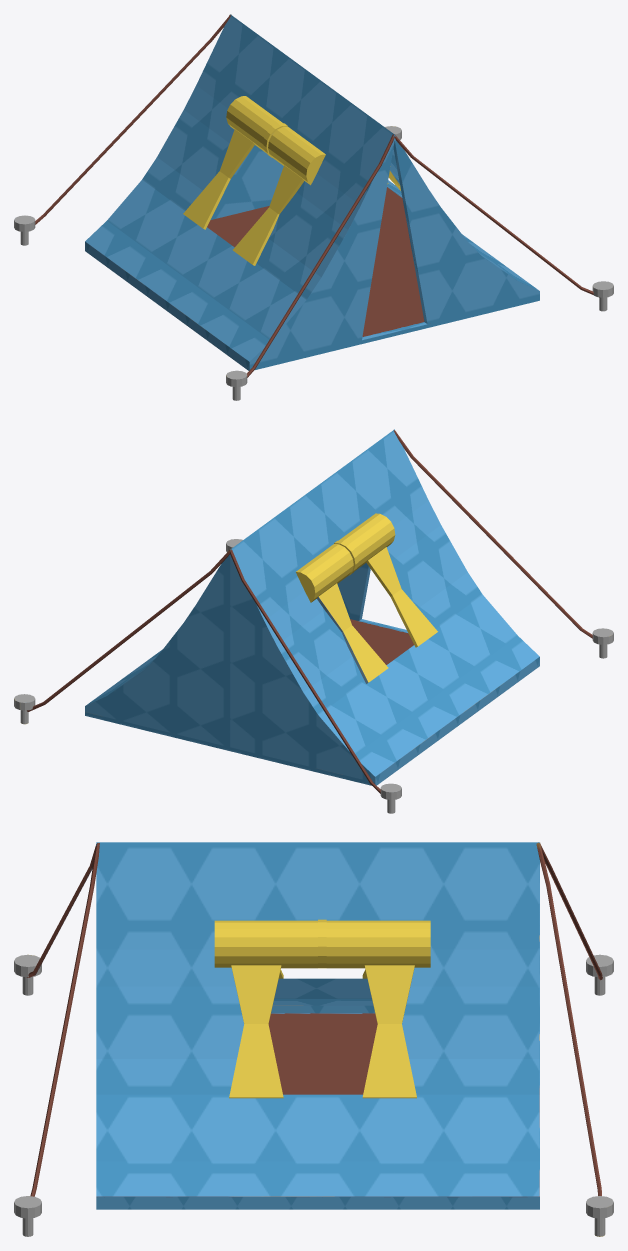
Rendered from Carpa.fbx.
3 views of the same model, one above another, from view 1: azimuth 30°, elevation 25°; view 2: azimuth 150°, elevation 25°; view 3: azimuth 270°, elevation 25° (orthographic). The views are drawn at different scales.
Parts seen in each view (by area): view 1: Carpa; view 2: Carpa; view 3: Carpa.
Boxes of the visible parts, bbox=[...] form: Carpa: bbox=[14, 14, 613, 400]; Carpa: bbox=[14, 429, 613, 813]; Carpa: bbox=[14, 842, 613, 1236].
Size of the model in its own units: 800 by 400 by 800.
